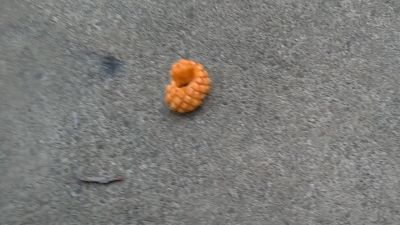eggs: (162, 59, 212, 116)
